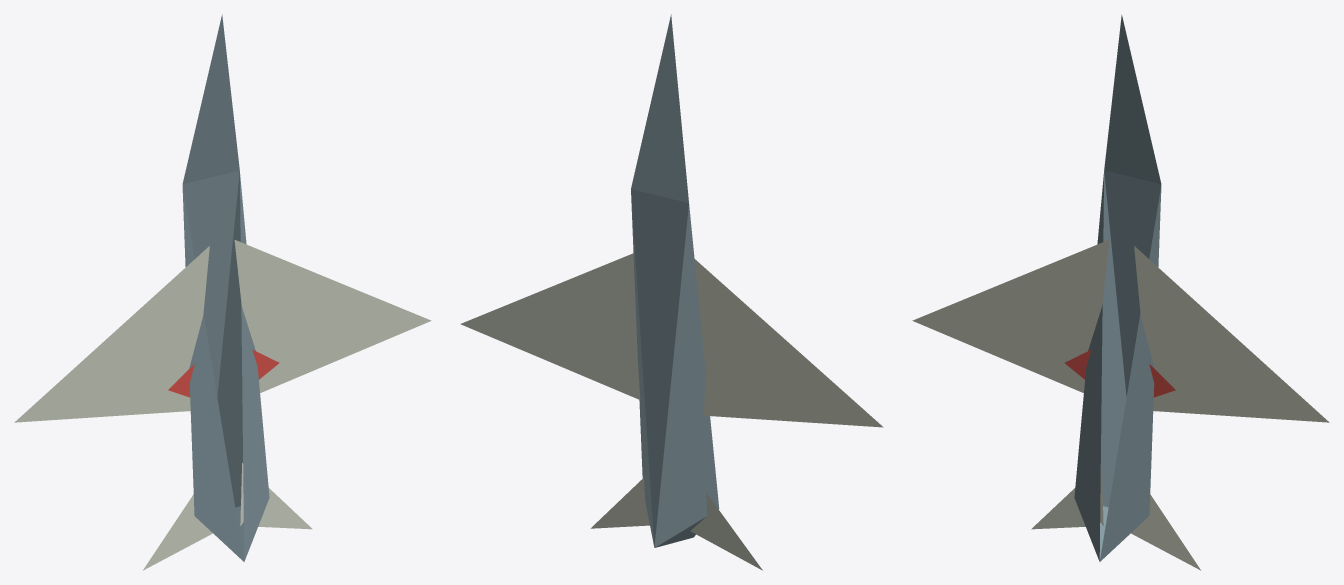
Rendered from shape_002_DaNang_Strike_Jet.glb.
3 views of the same model, side by side, from view 1: azimuth 30°, elevation 25°; view 2: azimuth 150°, elevation 25°; view 3: azimuth 330°, elevation 25° (orthographic).
Visible parts, largest first — view 1: shape_002_DaNang_Strike_Jet; view 2: shape_002_DaNang_Strike_Jet; view 3: shape_002_DaNang_Strike_Jet.
Boxes of the visible parts, x1,y1,x2,y2 form: shape_002_DaNang_Strike_Jet: (14, 14, 431, 570); shape_002_DaNang_Strike_Jet: (460, 14, 883, 570); shape_002_DaNang_Strike_Jet: (912, 14, 1329, 570).
Size of the model in its own units: 47.19 by 57.45 by 7.56.
